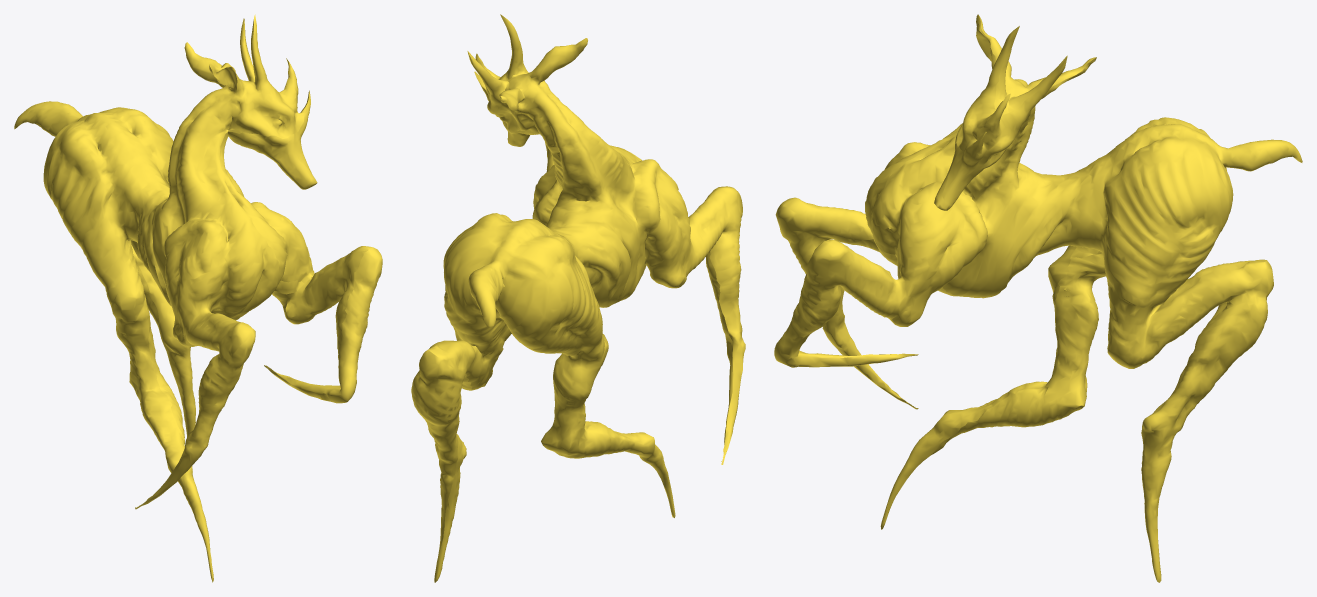
The picture shows the model from 3 angles, left to right: view 1: azimuth 30°, elevation 25°; view 2: azimuth 150°, elevation 25°; view 3: azimuth 270°, elevation 25°; orthographic projection. The views are drawn at different scales.
Parts seen in each view (by area): view 1: split_parent_0; view 2: split_parent_0; view 3: split_parent_0.
Part boxes in pixels (bbox=[...]): split_parent_0: bbox=[14, 14, 382, 582]; split_parent_0: bbox=[411, 14, 745, 582]; split_parent_0: bbox=[774, 14, 1302, 582].
Size of the model in its own units: 0.4316 by 1 by 0.8528.
